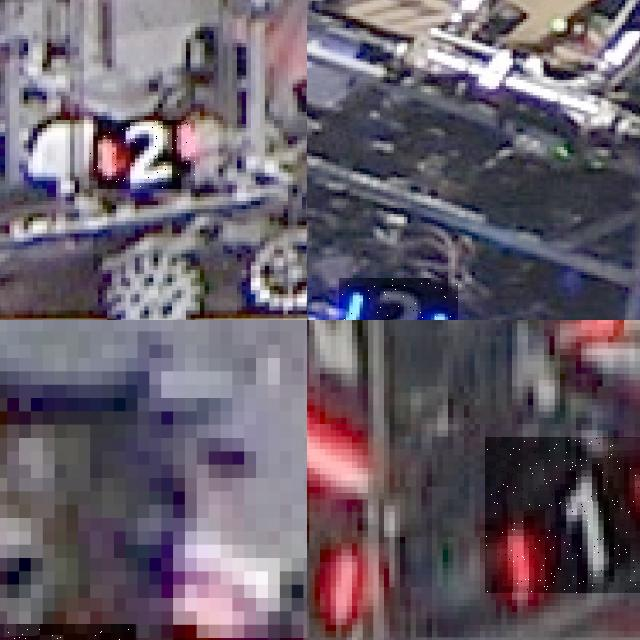B2: (339, 277, 458, 320)
R1: (485, 436, 640, 593), (307, 468, 362, 625)
R2: (89, 120, 195, 189)
